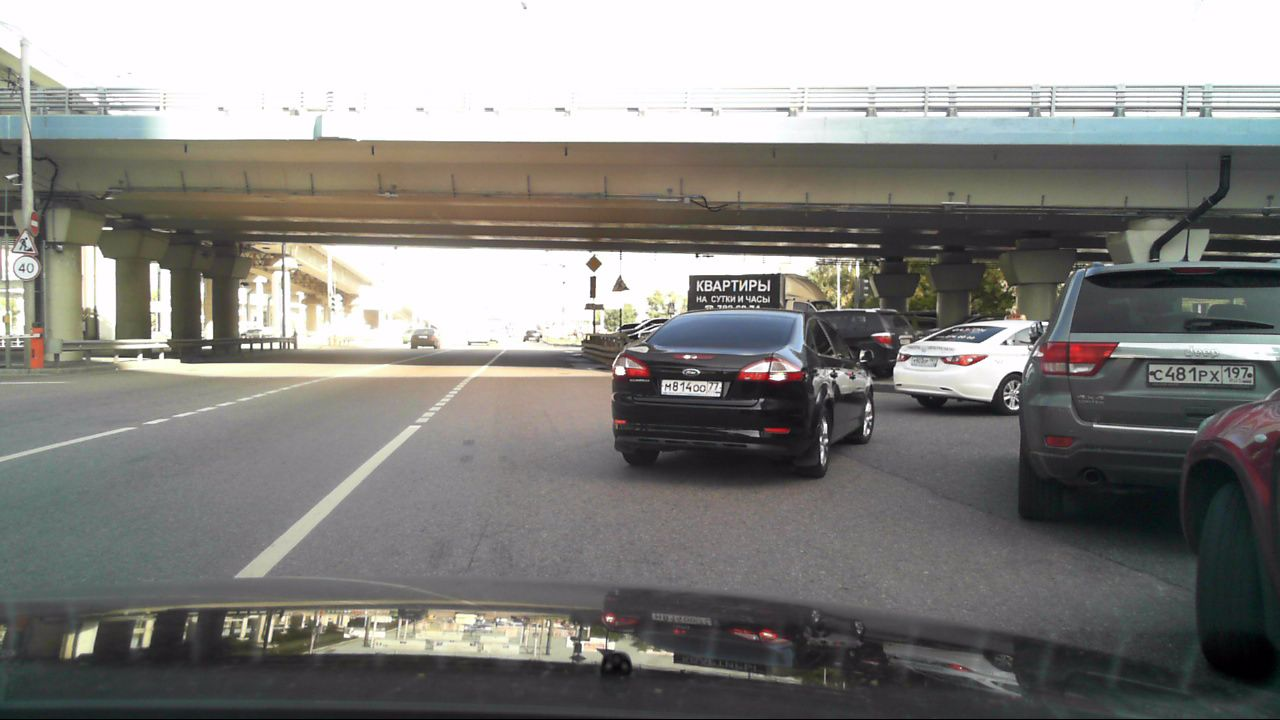speed_warning_40: (11, 257, 38, 282)
